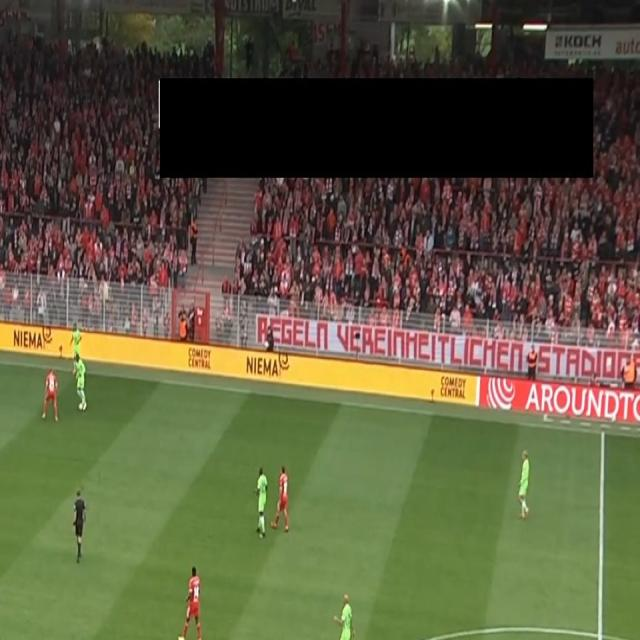ball: (78, 402, 84, 412)
